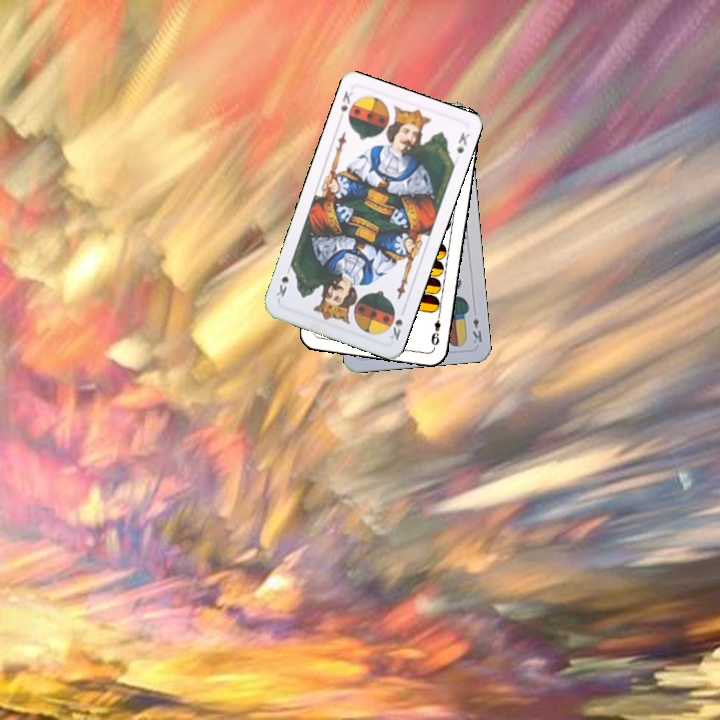E9: (427, 309, 443, 348)
EK: (468, 314, 485, 346)
SK: (336, 87, 359, 125), (386, 304, 408, 343)
